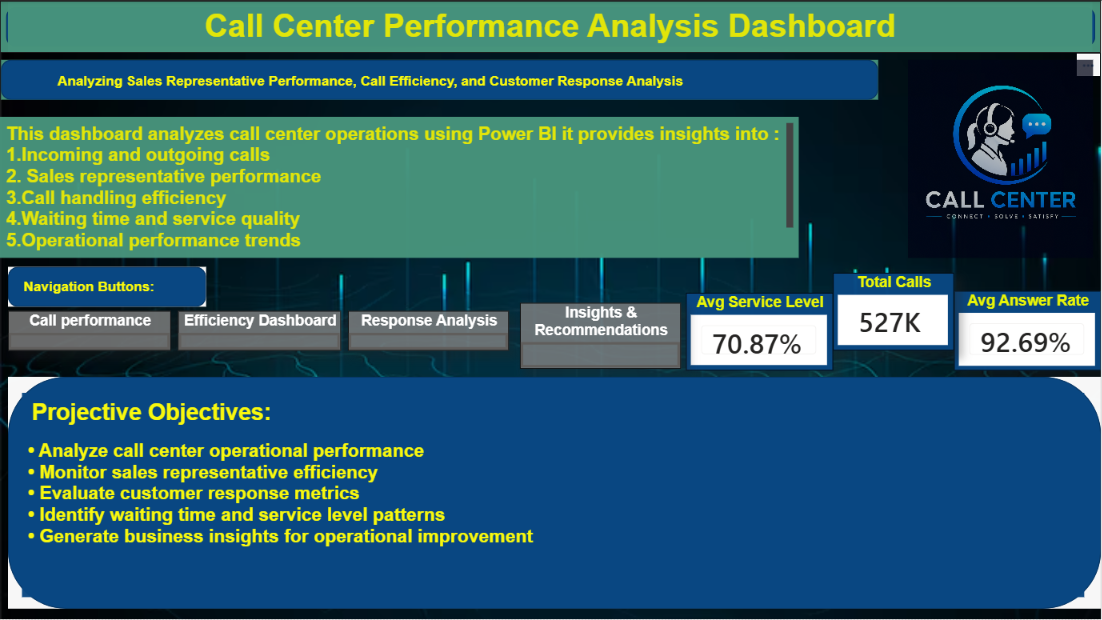

Layout of this report page (visuals, bound fields, positions):
{"tool":"powerbi","page":{"name":"Intro-page","canvas":[1280,720],"ordinal":0},"visuals":[{"type":"group","id":"g1","title":"Group 1","box":[0,0,1280.3,60.4],"z":0},{"type":"shape","box":[0,0,1280.3,60.4],"z":0,"group":"g1"},{"type":"shape","box":[1.2,68.6,1019.8,46.5],"z":0,"group":"g3"},{"type":"shape","box":[9.3,309.3,230.2,46.5],"z":0,"group":"g4"},{"type":"shape","box":[9.3,437.2,1270.9,269.8],"z":0,"group":"g5"},{"type":"textbox","box":[9.6,0,1261.1,60.4],"z":1000,"group":"g1"},{"type":"textbox","box":[51.3,76.9,958.3,34.9],"z":1000,"group":"g3"},{"type":"textbox","box":[0,134.9,929.1,164],"z":1000,"group":"g2"},{"type":"textbox","box":[12,316.3,184.9,34.9],"z":1000,"group":"g4"},{"type":"textbox","box":[25.2,456.2,1234.9,237.9],"z":1000,"group":"g5"},{"type":"group","id":"g2","title":"Group 1","box":[0,134.9,929.1,164],"z":2000},{"type":"cardVisual","title":"Avg Answer Rate","fields":{"Data":["Call Center Data.Avg Answer Rate"]},"box":[1109.3,337.2,170.9,93],"z":3000},{"type":"cardVisual","title":"Avg Service Level","fields":{"Data":["Call Center Data.Avg Service Level"]},"box":[797.7,339.5,170.9,90.7],"z":4000},{"type":"cardVisual","title":"Total Calls","fields":{"Data":["Call Center Data.Total Calls"]},"box":[968.6,316.3,140.7,90.7],"z":5000},{"type":"group","id":"g3","title":"Group 1","box":[1.2,68.6,1019.8,46.5],"z":6000},{"type":"actionButton","title":"Call performance ","box":[9.3,360.5,189.5,46.5],"z":7000},{"type":"actionButton","title":"Efficiency Dashboard","box":[207,360.5,189.5,46.5],"z":8000},{"type":"actionButton","title":"Response Analysis","box":[404.7,360.5,187.2,46.5],"z":9000},{"type":"actionButton","title":"Insights & Recommendations","box":[604.7,351.2,187.2,76.7],"z":10000},{"type":"group","id":"g4","title":"Group 1","box":[9.3,309.3,230.2,46.5],"z":10001},{"type":"group","id":"g5","title":"Group 1","box":[9.3,437.2,1270.9,269.8],"z":10002},{"type":"image","box":[1055.8,68.6,215.1,230.2],"z":10003}]}

Visuals, with their boxes in screenshot pixels (x1, y1, x2, y2), scaled from the page's 1280x720 canvas onto the 1102x620 screenshot:
"Group 1" group: pyautogui.locateOnScreen(0, 0, 1101, 52)
shape: pyautogui.locateOnScreen(0, 0, 1101, 52)
shape: pyautogui.locateOnScreen(1, 59, 879, 99)
shape: pyautogui.locateOnScreen(8, 266, 206, 306)
shape: pyautogui.locateOnScreen(8, 376, 1101, 609)
textbox: pyautogui.locateOnScreen(8, 0, 1094, 52)
textbox: pyautogui.locateOnScreen(44, 66, 869, 96)
textbox: pyautogui.locateOnScreen(0, 116, 800, 257)
textbox: pyautogui.locateOnScreen(10, 272, 170, 302)
textbox: pyautogui.locateOnScreen(22, 393, 1085, 598)
"Group 1" group: pyautogui.locateOnScreen(0, 116, 800, 257)
"Avg Answer Rate" cardVisual: pyautogui.locateOnScreen(955, 290, 1101, 370)
"Avg Service Level" cardVisual: pyautogui.locateOnScreen(687, 292, 834, 370)
"Total Calls" cardVisual: pyautogui.locateOnScreen(834, 272, 955, 350)
"Group 1" group: pyautogui.locateOnScreen(1, 59, 879, 99)
"Call performance " actionButton: pyautogui.locateOnScreen(8, 310, 171, 350)
"Efficiency Dashboard" actionButton: pyautogui.locateOnScreen(178, 310, 341, 350)
"Response Analysis" actionButton: pyautogui.locateOnScreen(348, 310, 510, 350)
"Insights & Recommendations" actionButton: pyautogui.locateOnScreen(521, 302, 682, 368)
"Group 1" group: pyautogui.locateOnScreen(8, 266, 206, 306)
"Group 1" group: pyautogui.locateOnScreen(8, 376, 1101, 609)
image: pyautogui.locateOnScreen(909, 59, 1094, 257)
